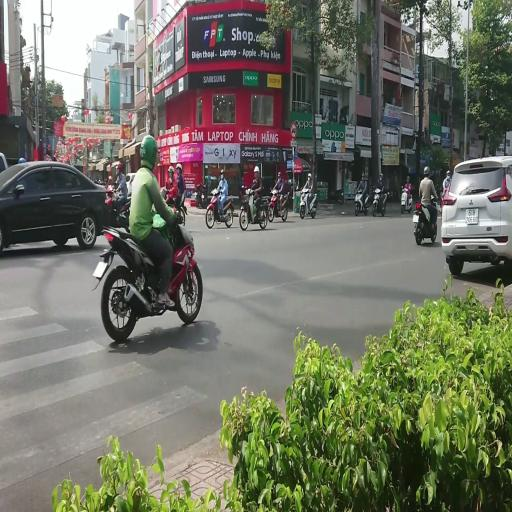bikes: (92, 204, 202, 342), (54, 136, 101, 166), (239, 187, 267, 230), (412, 198, 438, 244), (205, 188, 234, 228), (105, 187, 131, 230), (160, 187, 186, 226), (267, 188, 288, 222), (299, 188, 317, 219), (116, 197, 131, 232), (354, 186, 369, 216), (372, 187, 387, 216), (400, 184, 413, 214), (439, 181, 450, 214), (195, 183, 207, 208), (330, 188, 344, 204), (125, 173, 135, 195), (438, 190, 444, 214)
helmet: (140, 135, 158, 169), (115, 162, 122, 170), (106, 185, 113, 193), (424, 166, 430, 175), (176, 164, 182, 172), (168, 166, 174, 173), (18, 157, 25, 163), (212, 188, 218, 195), (444, 178, 449, 186), (254, 166, 259, 173), (416, 202, 421, 209), (404, 184, 409, 190), (126, 175, 130, 182), (272, 189, 277, 194), (278, 171, 282, 177), (361, 173, 365, 179), (407, 184, 411, 190), (406, 176, 410, 181), (446, 170, 450, 175), (220, 169, 224, 174), (108, 175, 112, 180), (376, 188, 380, 193), (287, 180, 292, 184), (308, 173, 311, 179), (380, 173, 383, 179), (439, 168, 442, 173), (431, 195, 434, 199), (401, 185, 403, 189)
